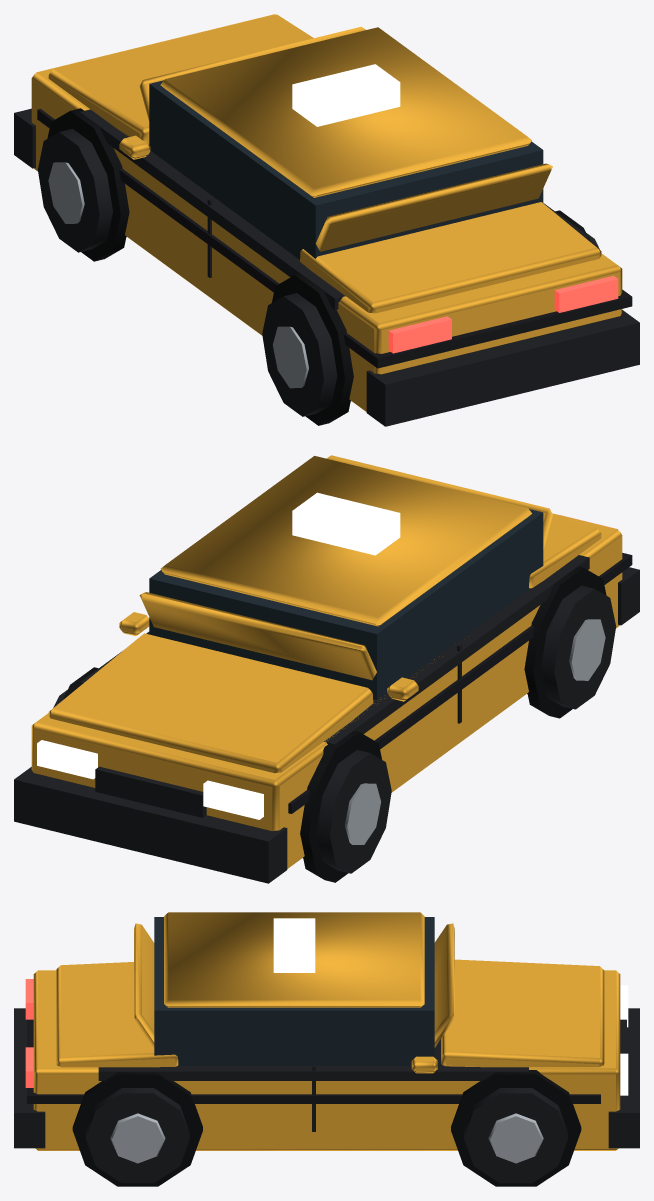
File: city_taxi.glb
3 renders of one model, top to bottom at view 1: azimuth 30°, elevation 25°; view 2: azimuth 150°, elevation 25°; view 3: azimuth 270°, elevation 25°, orthographic. The views are drawn at different scales.
Visible parts, largest first — view 1: city_taxi_yellow_taxi, city_taxi_dark_metal, city_taxi_glass_dark, city_taxi_arch, city_taxi_check, city_taxi_sign_glow, city_taxi_steel, city_taxi_tl_red; view 2: city_taxi_yellow_taxi, city_taxi_dark_metal, city_taxi_glass_dark, city_taxi_sign_glow, city_taxi_arch, city_taxi_steel, city_taxi_check; view 3: city_taxi_yellow_taxi, city_taxi_dark_metal, city_taxi_glass_dark, city_taxi_arch, city_taxi_steel, city_taxi_check, city_taxi_sign_glow, city_taxi_tl_red.
Boxes of the visible parts, left/top/right/bottom form: city_taxi_yellow_taxi: left=31, top=14, right=622, bottom=411; city_taxi_dark_metal: left=14, top=108, right=639, bottom=426; city_taxi_glass_dark: left=149, top=80, right=543, bottom=259; city_taxi_arch: left=47, top=108, right=590, bottom=425; city_taxi_check: left=37, top=109, right=632, bottom=368; city_taxi_sign_glow: left=292, top=64, right=400, bottom=126; city_taxi_steel: left=48, top=162, right=308, bottom=388; city_taxi_tl_red: left=388, top=275, right=618, bottom=353; city_taxi_yellow_taxi: left=31, top=455, right=622, bottom=868; city_taxi_dark_metal: left=14, top=555, right=639, bottom=883; city_taxi_glass_dark: left=149, top=509, right=543, bottom=699; city_taxi_sign_glow: left=37, top=492, right=400, bottom=819; city_taxi_arch: left=62, top=566, right=606, bottom=882; city_taxi_steel: left=345, top=619, right=605, bottom=844; city_taxi_check: left=288, top=553, right=632, bottom=813; city_taxi_yellow_taxi: left=33, top=912, right=620, bottom=1150; city_taxi_dark_metal: left=14, top=1008, right=639, bottom=1183; city_taxi_glass_dark: left=154, top=917, right=434, bottom=1065; city_taxi_arch: left=72, top=1070, right=581, bottom=1186; city_taxi_steel: left=110, top=1113, right=543, bottom=1163; city_taxi_check: left=27, top=1019, right=600, bottom=1103; city_taxi_sign_glow: left=273, top=918, right=628, bottom=1095; city_taxi_tl_red: left=25, top=979, right=33, bottom=1087.
Bounding box in the file's own units: 2.23 × 1.67 × 4.8.
